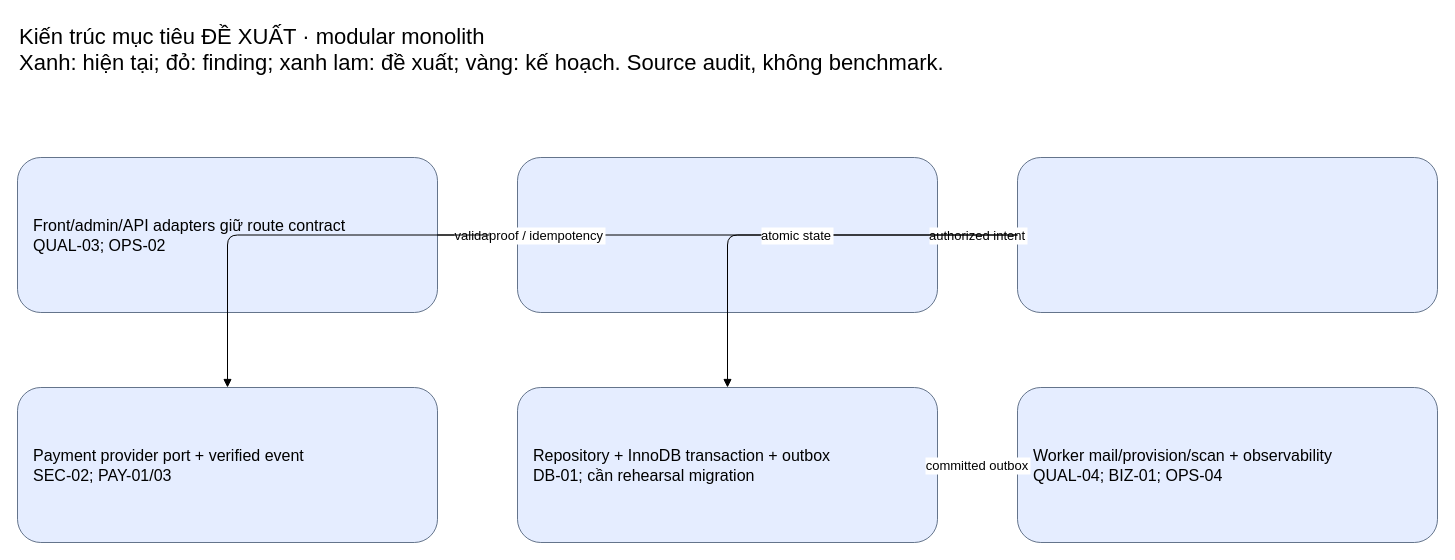
Image size: 1455x560. Some labels were removed from this diagram. The centre of each missing label's shape, as x and y in pixels:
"Auth/CSRF/ownership policy SEC-01/04/05" belongs at pixel 727 234.
"Checkout / Order / Entitlement use-cases PAY-01/02/03" belongs at pixel 1227 234.
